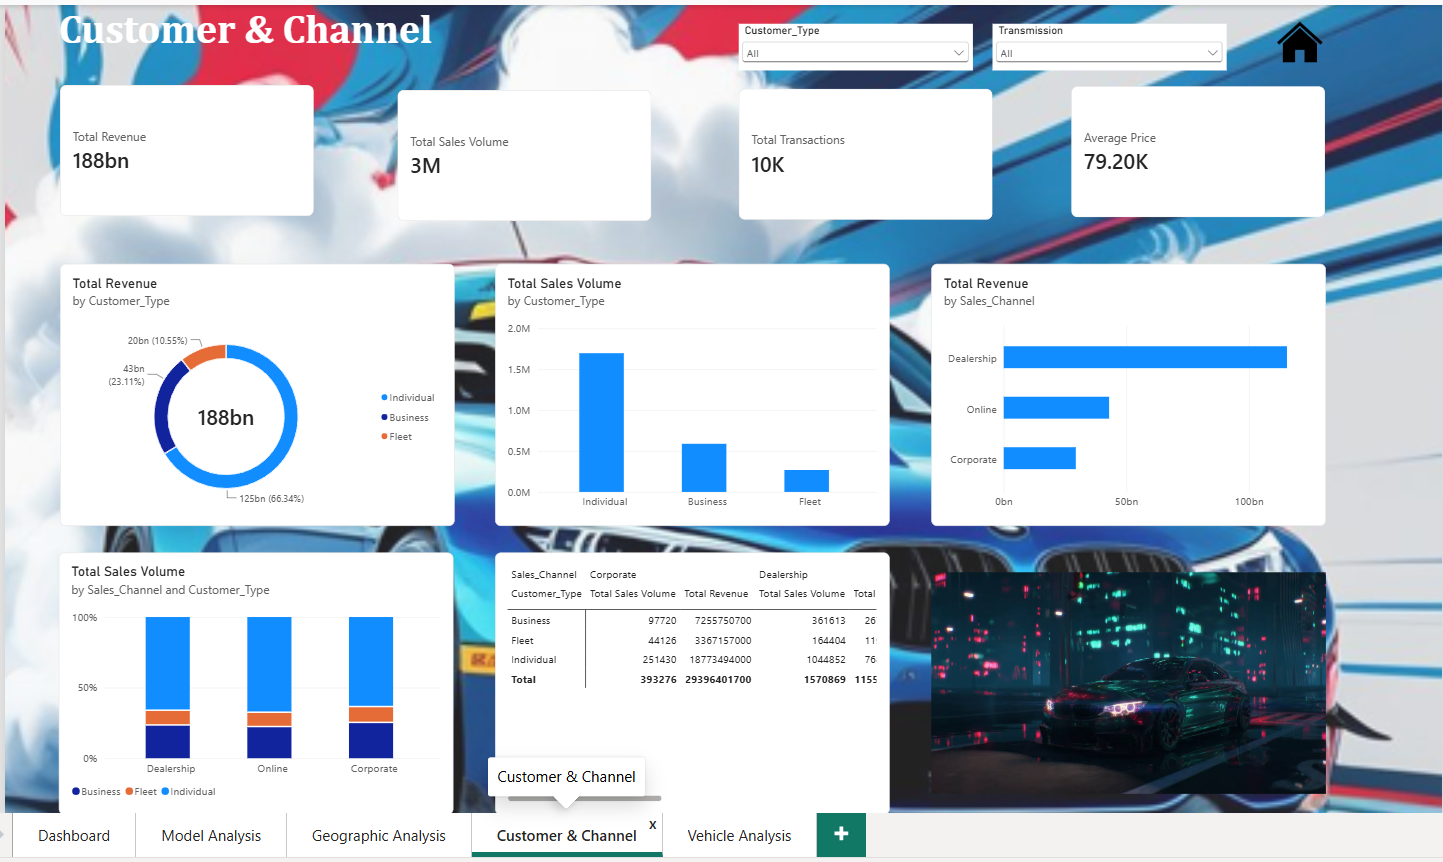

The dashboard page shown, as its layout file describes it:
{"tool":"powerbi","page":{"name":"Customer & Channel","canvas":[1920,1080],"ordinal":3},"visuals":[{"type":"textbox","box":[72,0,533.1,92.6],"z":0},{"type":"cardVisual","fields":{"Data":["measure.Total Revenue"]},"box":[72.9,106.2,339.6,175],"z":1000},{"type":"cardVisual","fields":{"Data":["measure.Total Sales Volume"]},"box":[524.9,113.2,339.6,175],"z":2000},{"type":"cardVisual","fields":{"Data":["measure.Total Transactions"]},"box":[979.8,111.1,339.6,175],"z":3000},{"type":"cardVisual","fields":{"Data":["measure.Average Price"]},"box":[1424.4,109.1,339.6,175],"z":4000},{"type":"donutChart","fields":{"Y":["measure.Total Revenue"],"Category":["BMW_Sales.Customer_Type"]},"box":[72.9,345.8,527.1,350],"z":5000},{"type":"columnChart","fields":{"Category":["BMW_Sales.Customer_Type"],"Y":["measure.Total Sales Volume"]},"box":[654.5,345.8,527.1,350],"z":6000},{"type":"clusteredBarChart","fields":{"Category":["BMW_Sales.Sales_Channel"],"Y":["measure.Total Revenue"]},"box":[1237.1,345.8,527.1,350],"z":7000},{"type":"hundredPercentStackedColumnChart","fields":{"Category":["BMW_Sales.Sales_Channel"],"Series":["BMW_Sales.Customer_Type"],"Y":["measure.Total Sales Volume"]},"box":[72,730.7,527.1,350],"z":8000},{"type":"pivotTable","fields":{"Rows":["BMW_Sales.Customer_Type"],"Columns":["BMW_Sales.Sales_Channel"],"Values":["measure.Total Sales Volume","measure.Total Revenue"]},"box":[654.5,730.7,527.1,350],"z":9000},{"type":"image","box":[1237,731,527,349],"z":10000},{"type":"slicer","fields":{"Values":["BMW_Sales.Transmission"]},"box":[1319.4,24.7,312.5,62.5],"z":11000},{"type":"image","box":[1695.8,12.5,66.7,75],"z":12000},{"type":"slicer","fields":{"Values":["BMW_Sales.Customer_Type"]},"box":[979.8,24.7,312.5,62.5],"z":13000}]}

Visuals, with their boxes on the page's 1920x1080 design canvas (x1, y1, x2, y2). These are canvas units, not pixel positions in the 1443x862 screenshot, which may show the page scaled, cropped or inside an application window:
textbox: select_region(72, 0, 605, 93)
cardVisual - measure.Total Revenue: select_region(73, 106, 412, 281)
cardVisual - measure.Total Sales Volume: select_region(525, 113, 864, 288)
cardVisual - measure.Total Transactions: select_region(980, 111, 1319, 286)
cardVisual - measure.Average Price: select_region(1424, 109, 1764, 284)
donutChart - measure.Total Revenue x BMW_Sales.Customer_Type: select_region(73, 346, 600, 696)
columnChart - BMW_Sales.Customer_Type x measure.Total Sales Volume: select_region(654, 346, 1182, 696)
clusteredBarChart - BMW_Sales.Sales_Channel x measure.Total Revenue: select_region(1237, 346, 1764, 696)
hundredPercentStackedColumnChart - BMW_Sales.Sales_Channel x BMW_Sales.Customer_Type: select_region(72, 731, 599, 1081)
pivotTable - BMW_Sales.Customer_Type x BMW_Sales.Sales_Channel: select_region(654, 731, 1182, 1081)
image: select_region(1237, 731, 1764, 1080)
slicer - BMW_Sales.Transmission: select_region(1319, 25, 1632, 87)
image: select_region(1696, 12, 1762, 88)
slicer - BMW_Sales.Customer_Type: select_region(980, 25, 1292, 87)
